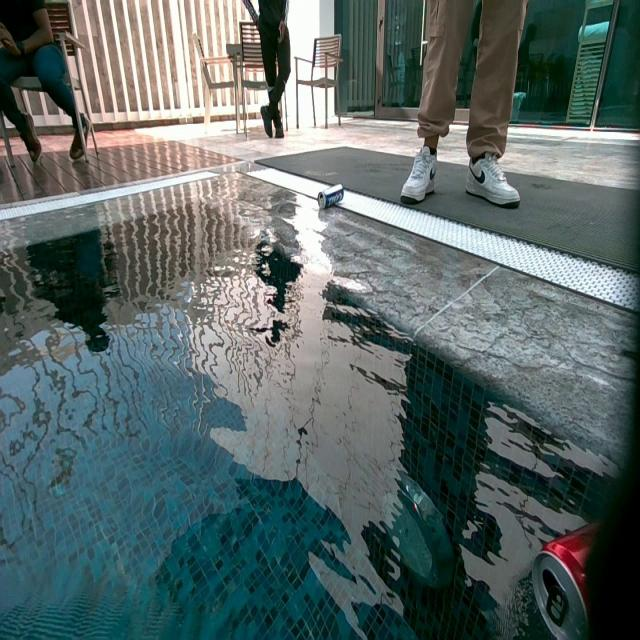Cans: (533, 525, 597, 638), (318, 183, 346, 211)
